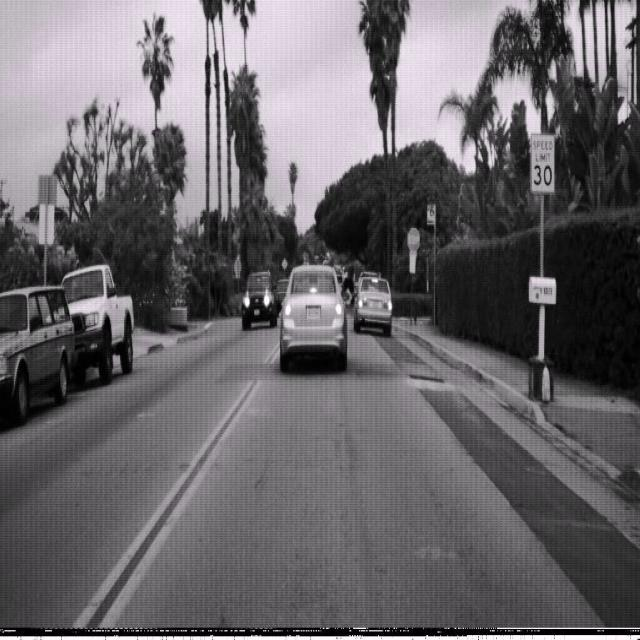stop_sign: (407, 227, 420, 252)
